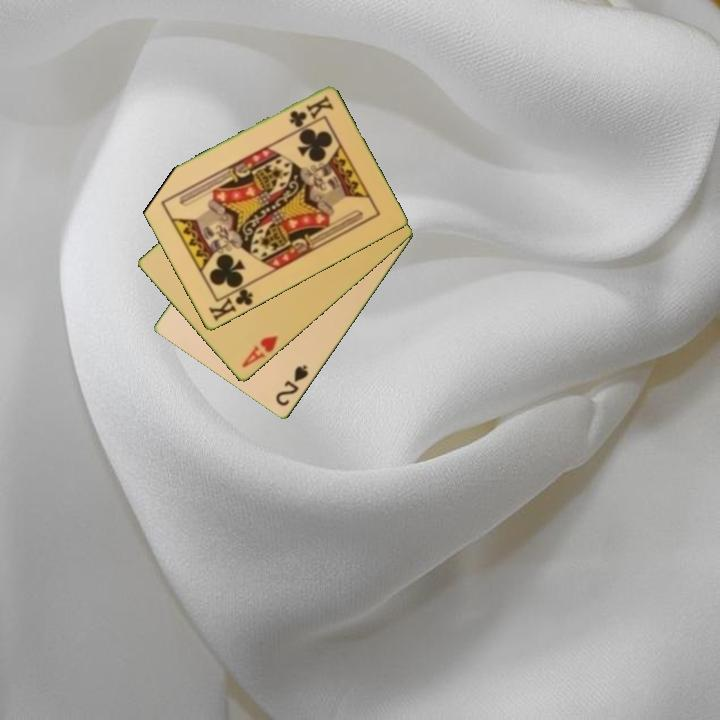2s: (272, 362, 311, 410)
Ah: (238, 332, 281, 371)
Kc: (205, 281, 256, 324), (286, 92, 336, 131)
